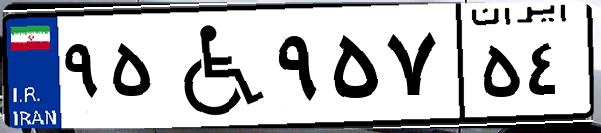4: (525, 38, 570, 115)
5: (330, 28, 385, 110), (475, 38, 525, 113), (110, 28, 158, 98)
7: (385, 28, 445, 110)
9: (270, 28, 330, 110), (57, 26, 110, 100)
ژ (معلولین و جانبازان): (158, 12, 270, 120)
